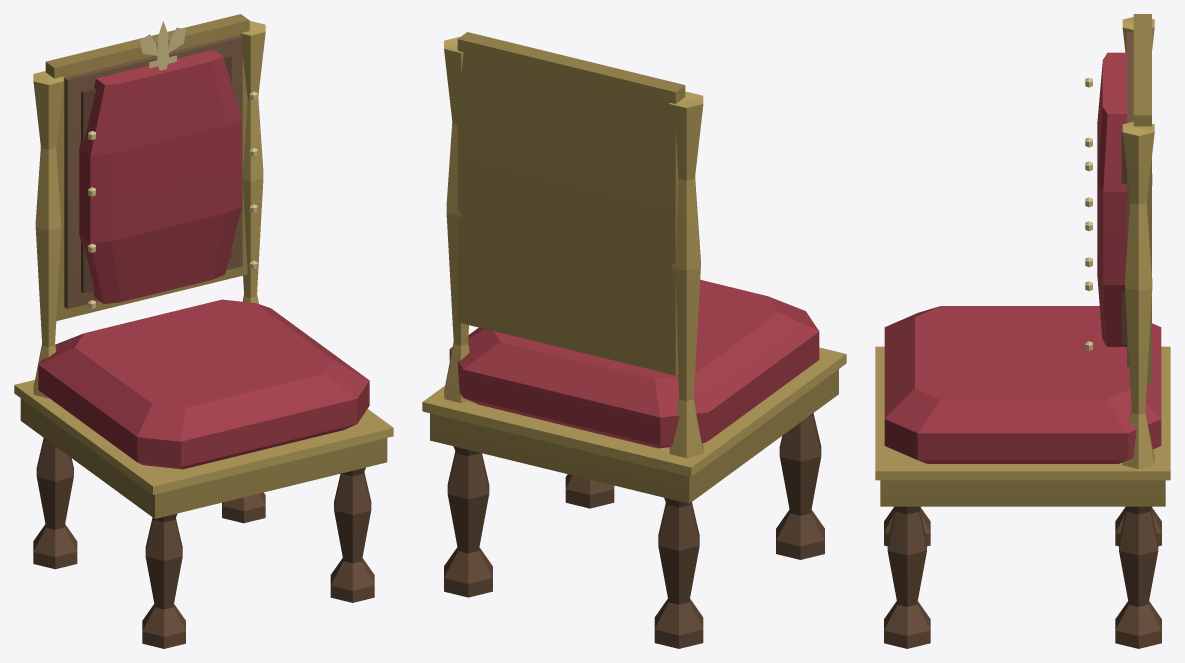
File: palace_chair.glb
3 views of the same model, side by side, from view 1: azimuth 30°, elevation 25°; view 2: azimuth 150°, elevation 25°; view 3: azimuth 270°, elevation 25° (orthographic). The views are drawn at different scales.
Parts seen in each view (by area): view 1: palace_chair; view 2: palace_chair; view 3: palace_chair.
Boxes of the visible parts, box(x1,y1,x2,y2) form: palace_chair: box(14, 14, 393, 648); palace_chair: box(422, 32, 846, 648); palace_chair: box(875, 14, 1170, 648).
Bounding box in the file's own units: 0.715 × 1.49 × 0.715.
